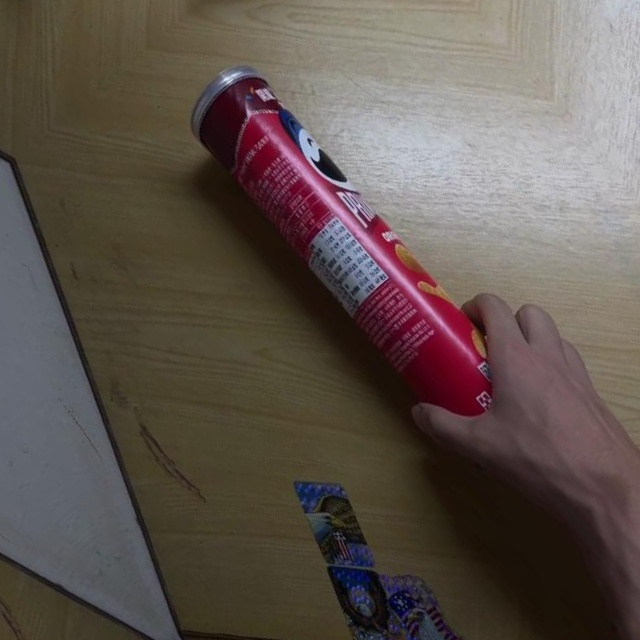Pringles: (173, 53, 553, 481)
